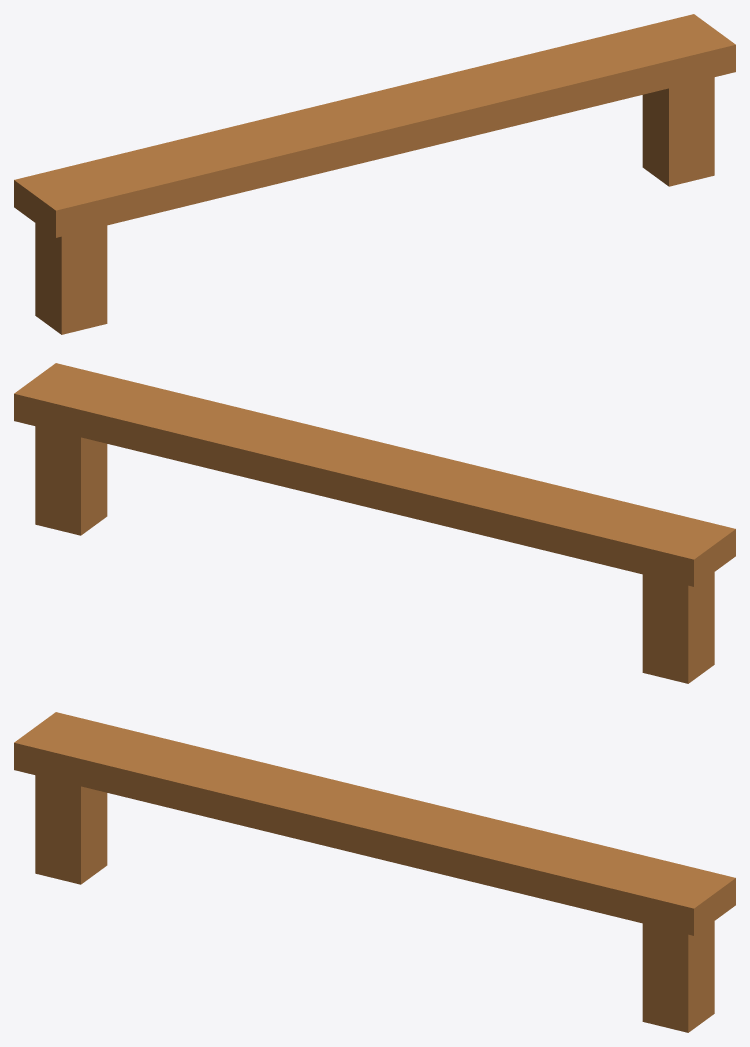
File: fence_simpleLow.glb
3 views of the same model, one above another, from view 1: azimuth 30°, elevation 25°; view 2: azimuth 150°, elevation 25°; view 3: azimuth 330°, elevation 25° (orthographic).
Visible parts, largest first — view 1: fence_simpleLow; view 2: fence_simpleLow; view 3: fence_simpleLow.
Part boxes in pixels (left/top/right/bottom): fence_simpleLow: left=14, top=14, right=735, bottom=334; fence_simpleLow: left=14, top=363, right=735, bottom=683; fence_simpleLow: left=14, top=712, right=735, bottom=1032.
Size of the model in its own units: 1.04 by 0.195 by 0.1112.
